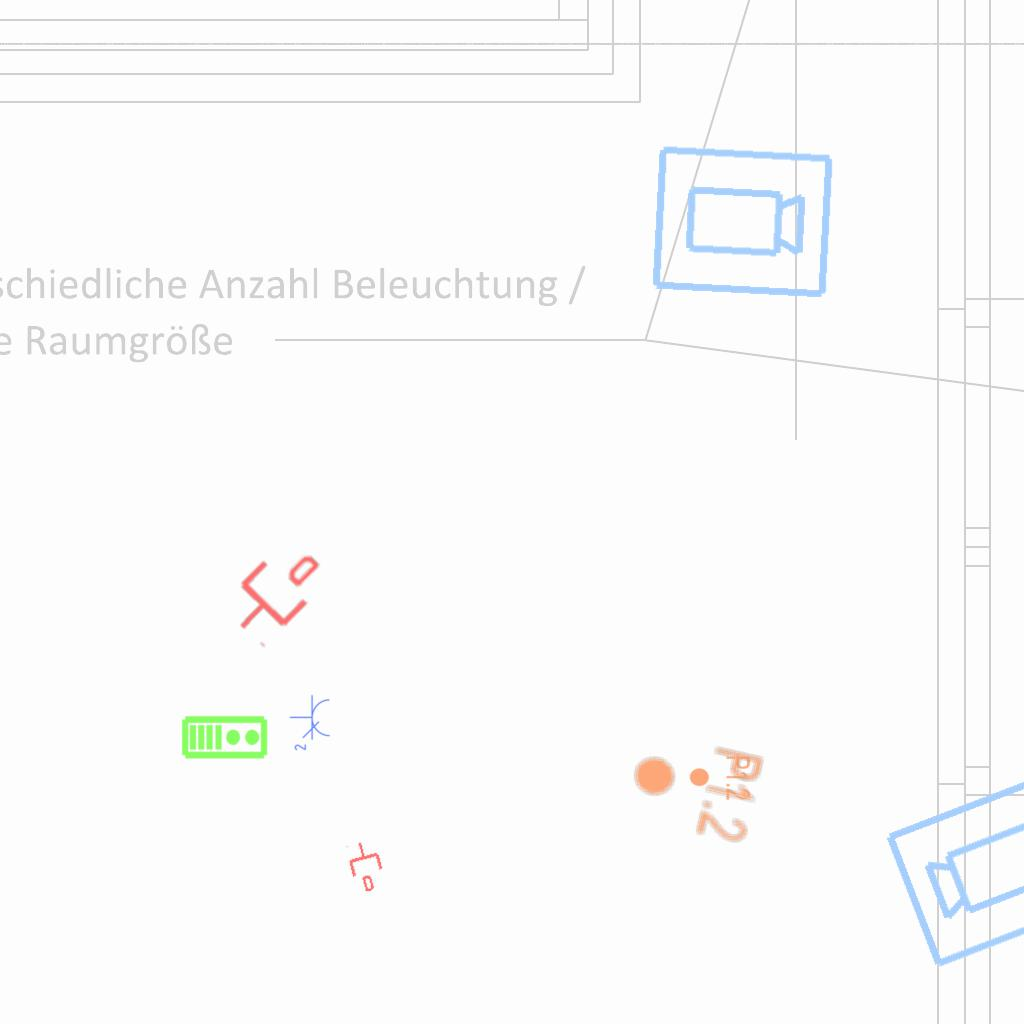Datenanschluss_einfach: (215, 532, 336, 652), (343, 837, 389, 895)
Downlight_LED_Einbauleuchten_Flur: (621, 727, 768, 847), (688, 755, 752, 801)
Gegensprechanlage_mit_Video: (181, 713, 269, 760)
KFO_Kamera_mit_Festobjektiv: (647, 141, 837, 305), (879, 764, 1024, 974)
Schukosteckdose_mehrfach: (289, 694, 333, 754)
